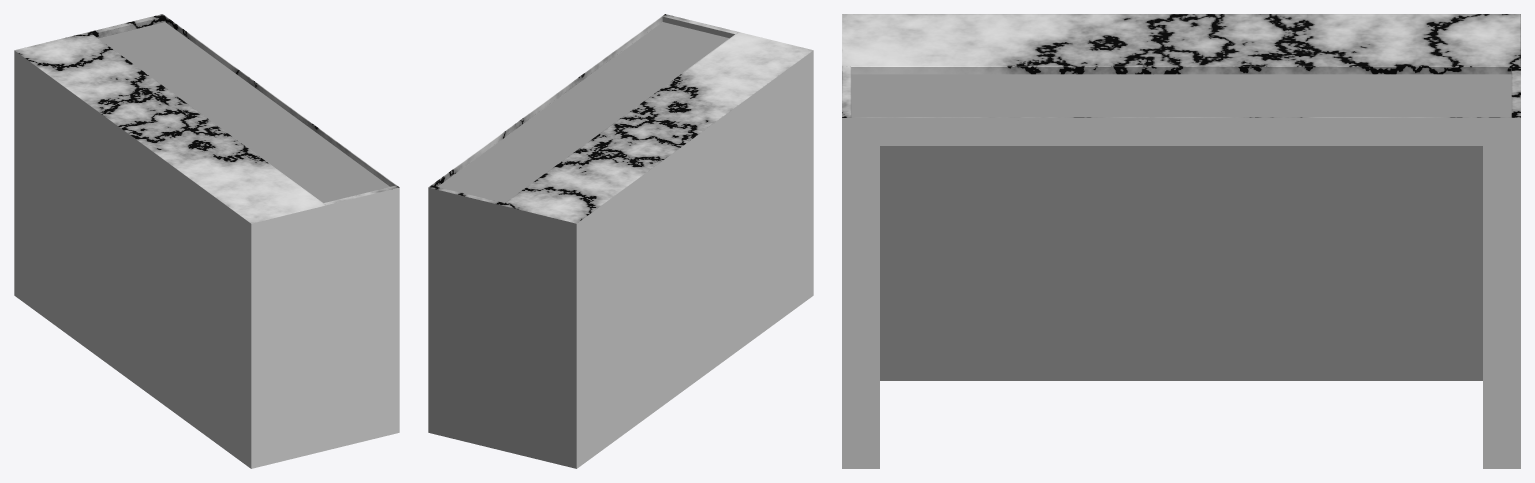
File: bar_table.fbx
3 views of the same model, side by side, from view 1: azimuth 30°, elevation 25°; view 2: azimuth 150°, elevation 25°; view 3: azimuth 270°, elevation 25° (orthographic). The views are drawn at different scales.
Parts seen in each view (by area): view 1: polySurface136; view 2: polySurface136; view 3: polySurface136.
Boxes of the visible parts, box(x1,y1,x2,y2) form: polySurface136: box(14, 14, 399, 468); polySurface136: box(428, 14, 813, 468); polySurface136: box(842, 14, 1520, 468).
Size of the model in its own units: 0.5743 by 0.9055 by 1.59.
5 materials, 1 textured.
